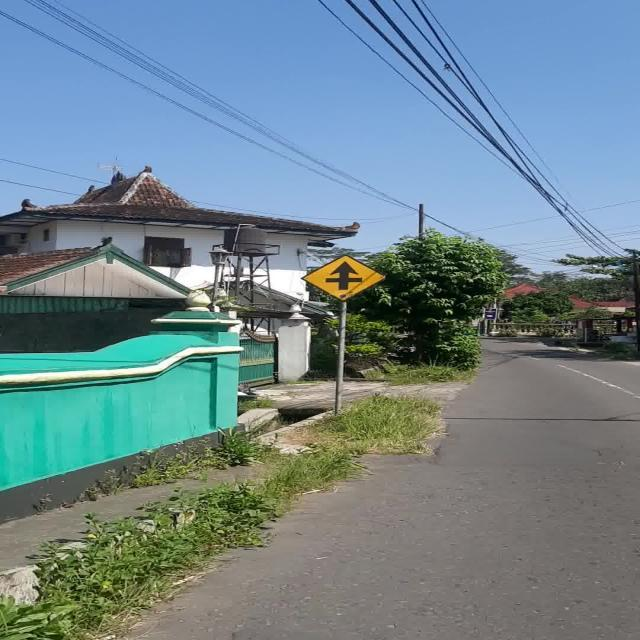Persimpangan 3 Prioritas: (300, 254, 384, 302)
